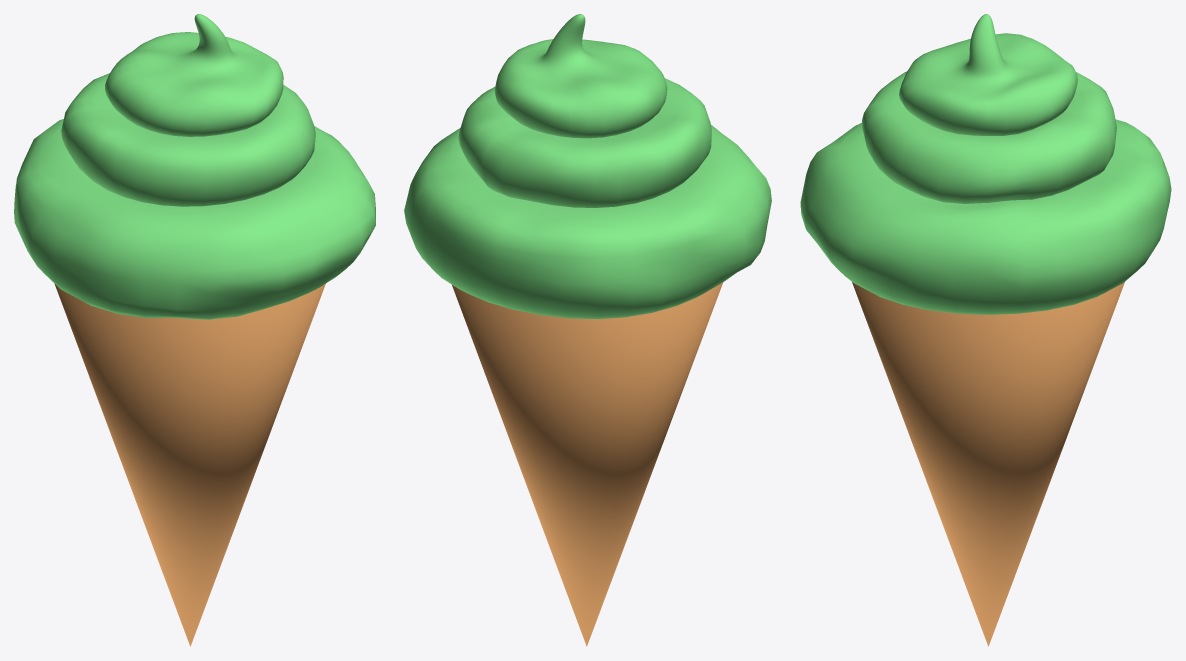
File: Gelato.fbx
3 views of the same model, side by side, from view 1: azimuth 30°, elevation 25°; view 2: azimuth 150°, elevation 25°; view 3: azimuth 270°, elevation 25° (orthographic).
Parts seen in each view (by area): view 1: Cube, Cone; view 2: Cube, Cone; view 3: Cube, Cone.
Part boxes in pixels (x1=…): Cube: x1=14, y1=14, x2=375, y2=319; Cone: x1=54, y1=283, x2=325, y2=646; Cube: x1=404, y1=14, x2=771, y2=318; Cone: x1=452, y1=282, x2=722, y2=646; Cube: x1=800, y1=14, x2=1171, y2=314; Cone: x1=852, y1=282, x2=1124, y2=646.
Size of the model in its own units: 175 by 334 by 177.
